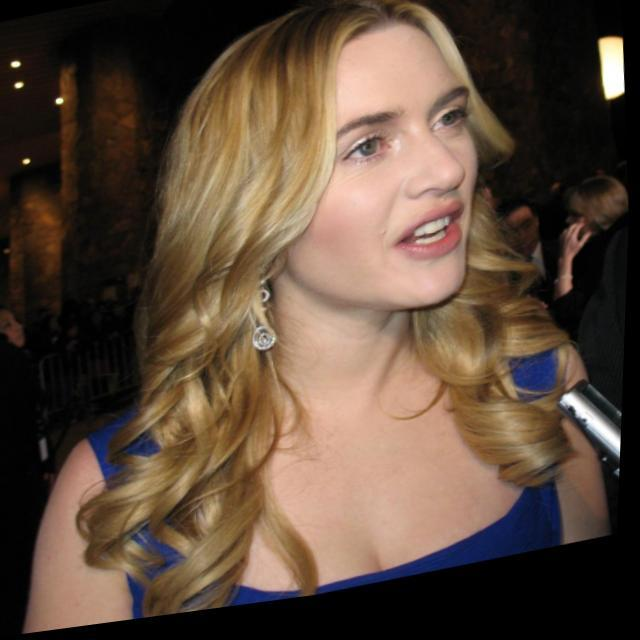Nonhelmet: (184, 0, 484, 315)
